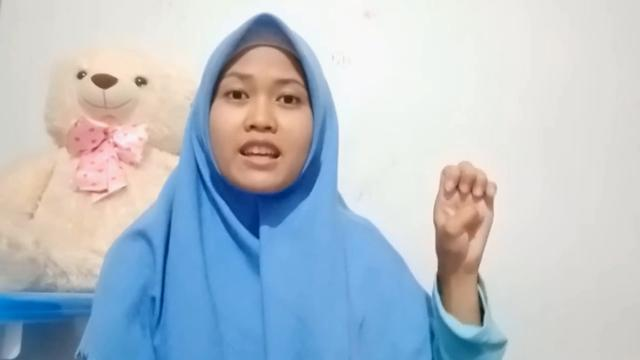E: (433, 158, 497, 268)
